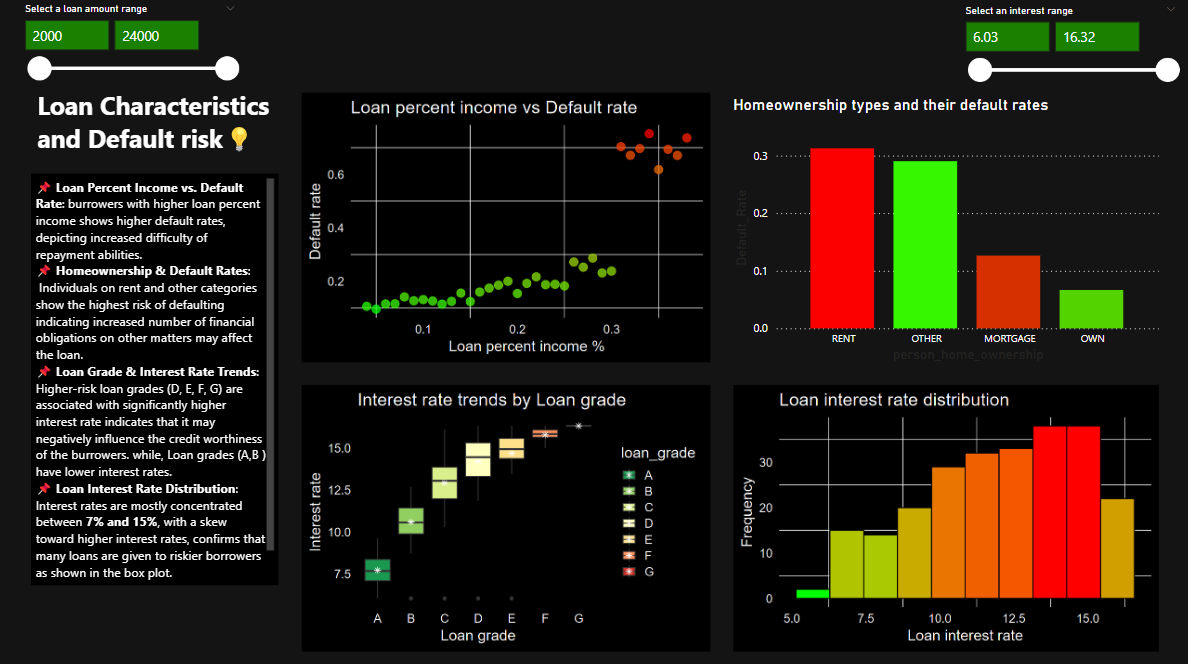

This screenshot's page, from the dashboard's own definition file:
{"tool":"powerbi","page":{"name":"Loan characteristics & Default Risk","canvas":[1280,720],"ordinal":2},"visuals":[{"type":"scriptVisual","fields":{"Values":["credit_risk_dataset_cleaned.Default Rate","credit_risk_dataset_cleaned.loan_percent_income"]},"box":[321.4,96.4,450,300],"z":0},{"type":"columnChart","title":"Homeownership types and their default rates","fields":{"Y":["credit_risk_dataset_cleaned.Default_Rate"],"Category":["credit_risk_dataset_cleaned.person_home_ownership"]},"box":[785.7,105.4,467.9,291.1],"z":1000},{"type":"slicer","fields":{"Values":["credit_risk_dataset_cleaned.loan_amnt"]},"box":[16.7,0,251.4,95.4],"z":2000},{"type":"slicer","fields":{"Values":["credit_risk_dataset_cleaned.loan_int_rate"]},"box":[1028.1,1.5,251.4,95.4],"z":3000},{"type":"scriptVisual","fields":{"Values":["credit_risk_dataset_cleaned.loan_int_rate","credit_risk_dataset_cleaned.loan_grade"]},"box":[321.4,410.7,450,296.4],"z":4000},{"type":"scriptVisual","fields":{"Values":["credit_risk_dataset_cleaned.loan_int_rate"]},"box":[785.7,410.7,467.9,296.4],"z":5000},{"type":"textbox","box":[35.7,189.3,266.1,442.9],"z":5001},{"type":"textbox","box":[37.9,92.4,263.5,136.3],"z":5002}]}

Visuals, with their boxes in screenshot pixels (x1, y1, x2, y2), scaled from the page's 1280x720 canvas onto the 1188x664 screenshot:
scriptVisual - credit_risk_dataset_cleaned.Default Rate x credit_risk_dataset_cleaned.loan_percent_income: (298,89,716,366)
"Homeownership types and their default rates" columnChart: (729,97,1163,366)
slicer - credit_risk_dataset_cleaned.loan_amnt: (15,0,249,88)
slicer - credit_risk_dataset_cleaned.loan_int_rate: (954,1,1187,89)
scriptVisual - credit_risk_dataset_cleaned.loan_int_rate x credit_risk_dataset_cleaned.loan_grade: (298,379,716,652)
scriptVisual - credit_risk_dataset_cleaned.loan_int_rate: (729,379,1163,652)
textbox: (33,175,280,583)
textbox: (35,85,280,211)
